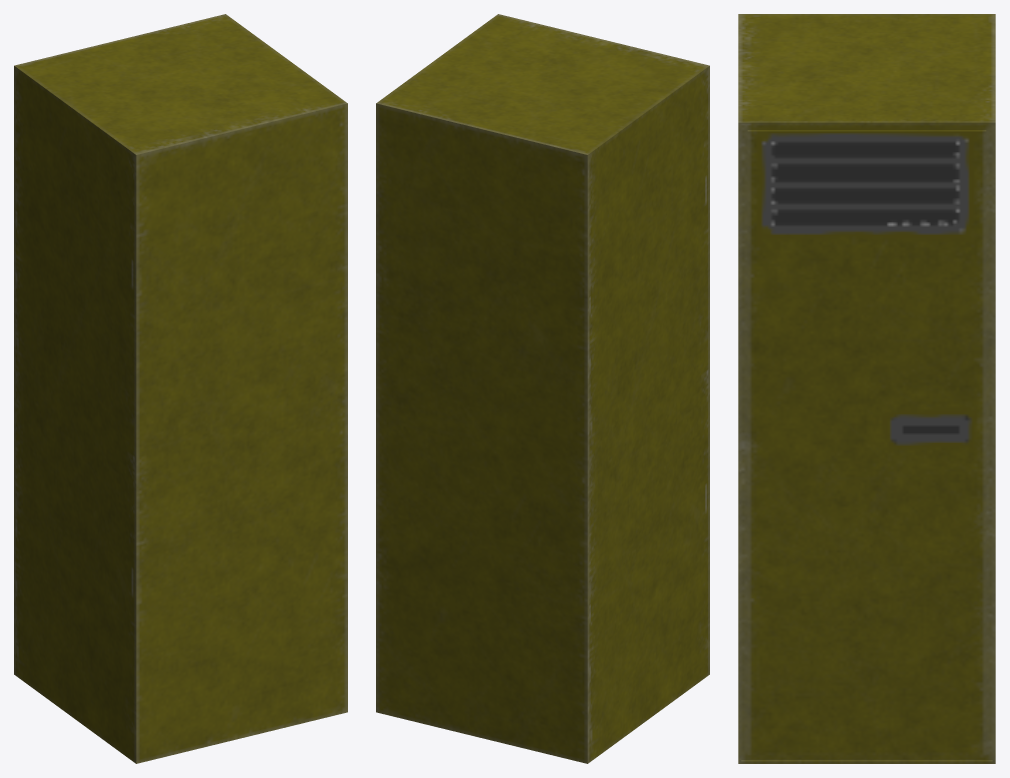
Rendered from locker.fbx.
The picture shows the model from 3 angles, left to right: view 1: azimuth 30°, elevation 25°; view 2: azimuth 150°, elevation 25°; view 3: azimuth 270°, elevation 25°; orthographic projection. The views are drawn at different scales.
Visible parts, largest first — view 1: Cube; view 2: Cube; view 3: Cube.
Part boxes in pixels (x1,y1,x2,y2): Cube: [14, 14, 347, 763]; Cube: [376, 14, 709, 763]; Cube: [738, 14, 995, 763].
Size of the model in its own units: 200 by 550 by 200.
Materials: 1 (1 with a texture image).
